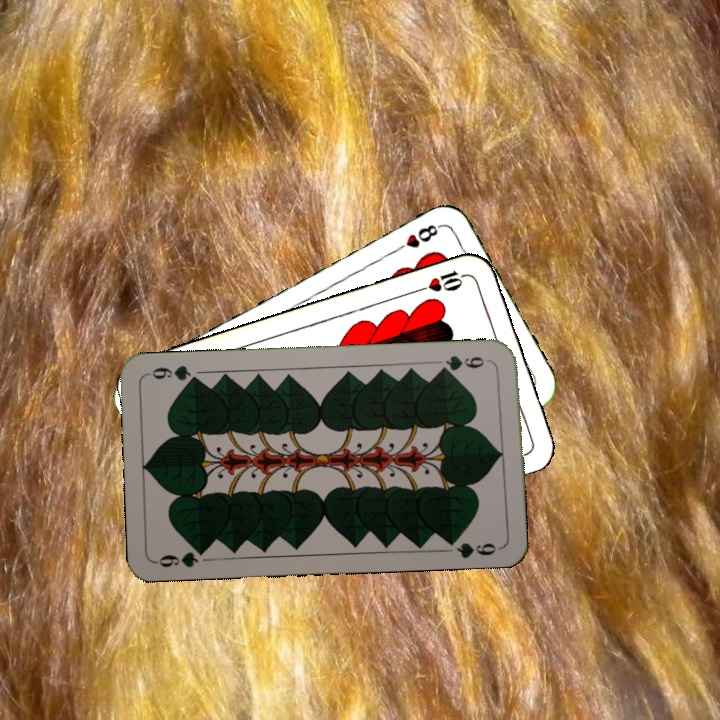G9: (152, 543, 211, 570), (435, 351, 494, 375)
H10: (414, 266, 472, 295)
H8: (390, 220, 444, 256)
